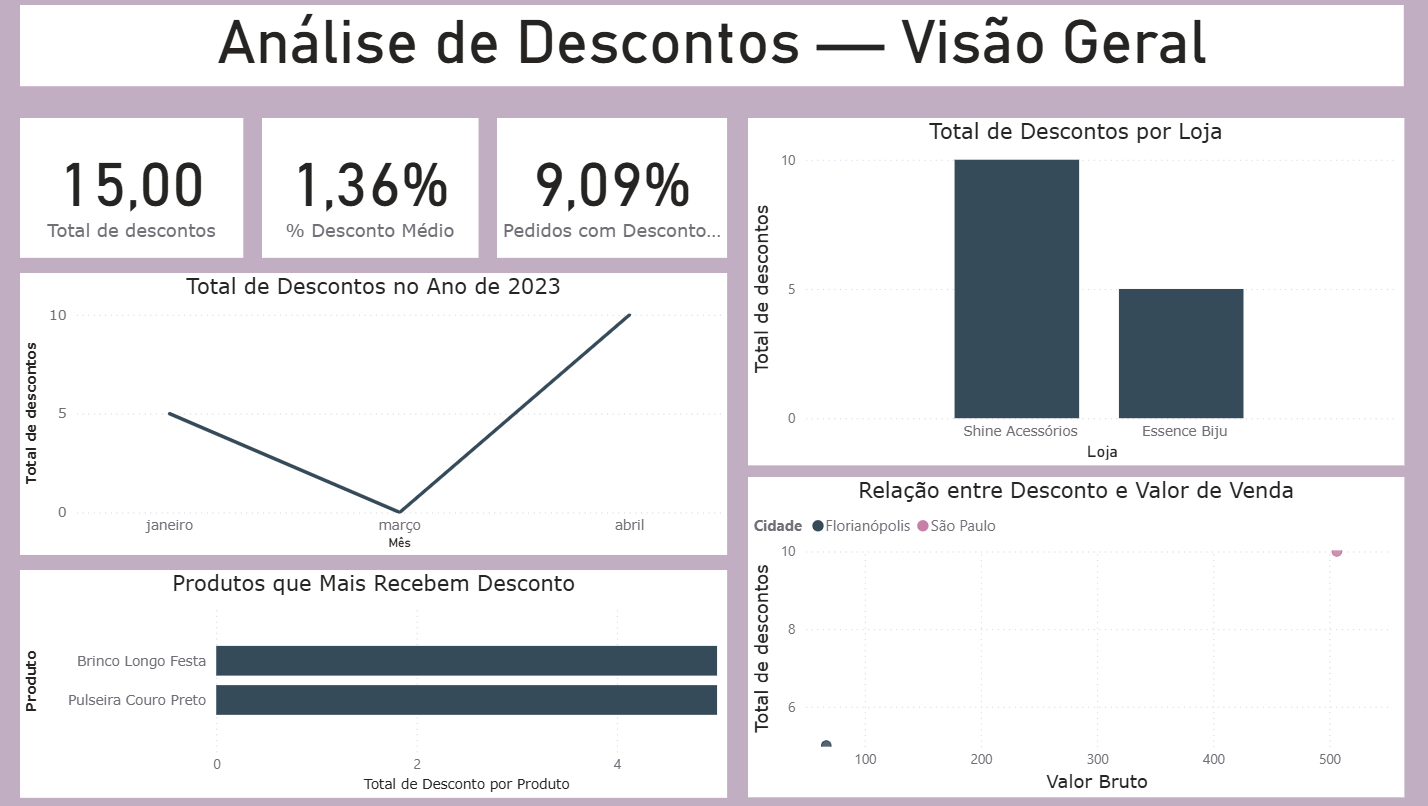

What the dashboard file says about the page in this screenshot:
{"tool":"powerbi","page":{"name":"Análise de Descontos","canvas":[1280,720],"ordinal":3},"visuals":[{"type":"card","fields":{"Values":["acessoryhub vw_padronizacao_pedidos.Título Descontos"]},"box":[23.9,8,1227.2,71.8],"z":0},{"type":"card","fields":{"Values":["acessoryhub vw_padronizacao_itens_pedido.Total de descontos"]},"box":[24.1,107.8,197.7,123.8],"z":1000},{"type":"card","fields":{"Values":["acessoryhub vw_padronizacao_pedidos.% Desconto Médio"]},"box":[238.7,107.8,191.5,123.8],"z":2000},{"type":"card","fields":{"Values":["acessoryhub vw_padronizacao_pedidos.Pedidos com Desconto %"]},"box":[447.2,107.8,204,123.8],"z":3000},{"type":"clusteredColumnChart","title":"Total de Descontos por Loja","fields":{"Category":["acessoryhub vw_lojas_padronizadas.Loja"],"Y":["acessoryhub vw_padronizacao_itens_pedido.Total de descontos"]},"box":[669.8,107.8,581.7,308.2],"z":4000},{"type":"lineChart","title":"Total de Descontos no Ano de 2023","fields":{"Y":["acessoryhub vw_padronizacao_itens_pedido.Total de descontos"],"Category":["acessoryhub pedidos.Data_Pedido.Variation.Hierarquia de datas.Mês"]},"box":[24.1,245.8,627.1,250.3],"z":5000},{"type":"clusteredBarChart","title":"Produtos que Mais Recebem Desconto","fields":{"Category":["acessoryhub produtos.Nome_Produto"],"Y":["acessoryhub vw_padronizacao_itens_pedido.Total de Desconto por Produto"]},"box":[24.1,508.6,627.1,202.2],"z":6000},{"type":"scatterChart","title":"Relação entre Desconto e Valor de Venda","fields":{"X":["acessoryhub vw_padronizacao_itens_pedido.Valor Bruto"],"Y":["acessoryhub vw_padronizacao_itens_pedido.Total de descontos"],"Series":["acessoryhub vw_lojas_padronizadas.Cidade"]},"box":[669.8,426.7,582,284.4],"z":7000}]}

Visuals, with their boxes in screenshot pixels (x1, y1, x2, y2), scaled from the page's 1280x720 canvas onto the 1428x806 screenshot:
card - acessoryhub vw_padronizacao_pedidos.Título Descontos: rect(27, 9, 1396, 89)
card - acessoryhub vw_padronizacao_itens_pedido.Total de descontos: rect(27, 121, 247, 259)
card - acessoryhub vw_padronizacao_pedidos.% Desconto Médio: rect(266, 121, 480, 259)
card - acessoryhub vw_padronizacao_pedidos.Pedidos com Desconto %: rect(499, 121, 726, 259)
"Total de Descontos por Loja" clusteredColumnChart: rect(747, 121, 1396, 466)
"Total de Descontos no Ano de 2023" lineChart: rect(27, 275, 726, 555)
"Produtos que Mais Recebem Desconto" clusteredBarChart: rect(27, 569, 726, 796)
"Relação entre Desconto e Valor de Venda" scatterChart: rect(747, 478, 1397, 796)
